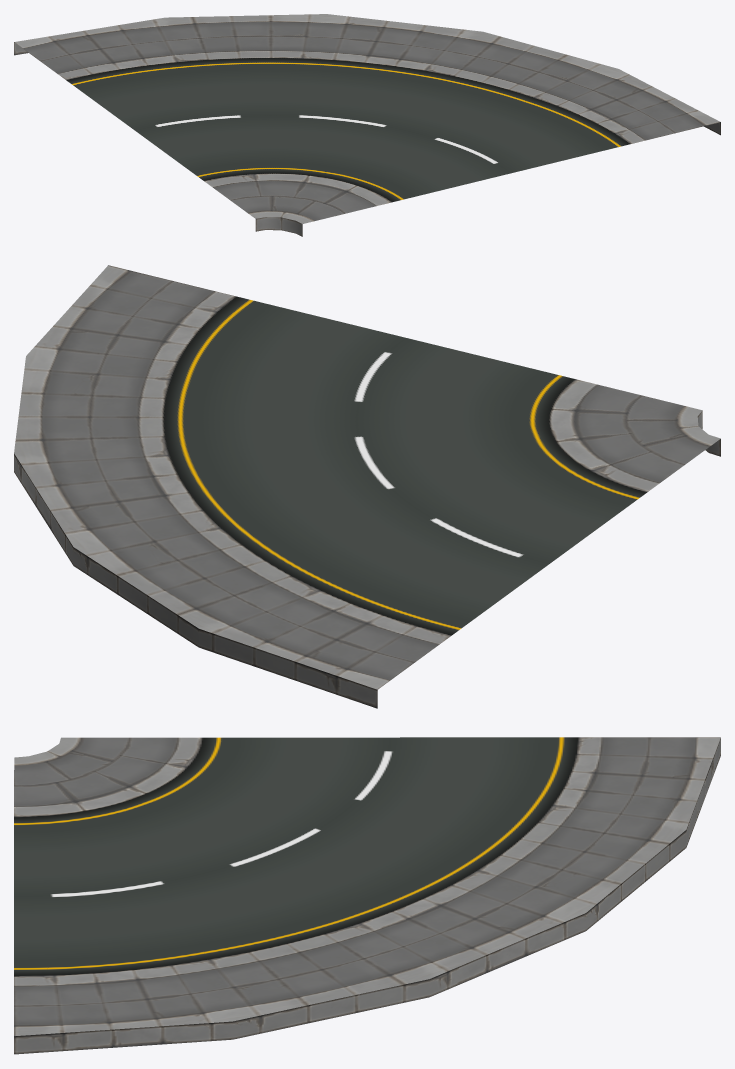
Rendered from Road4.fbx.
The picture shows the model from 3 angles, top to bottom: view 1: azimuth 30°, elevation 25°; view 2: azimuth 150°, elevation 25°; view 3: azimuth 270°, elevation 25°; orthographic projection. The views are drawn at different scales.
Parts seen in each view (by area): view 1: obj_pCylinder1; view 2: obj_pCylinder1; view 3: obj_pCylinder1.
Boxes of the visible parts, bbox=[...] form: obj_pCylinder1: bbox=[14, 14, 720, 236]; obj_pCylinder1: bbox=[14, 265, 720, 708]; obj_pCylinder1: bbox=[14, 737, 720, 1054].
Bounding box in the file's own units: 11.25 × 0.3198 × 11.25.
